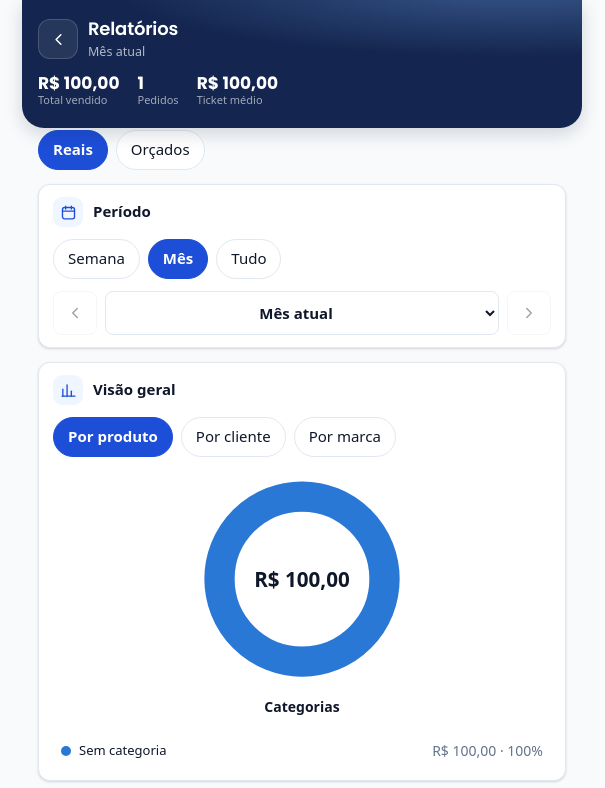
Test: relatórios › orçamento fica fora das vendas reais e tem o seu próprio recorte "Orçados"
Expected: the 1st text "R$ 100,00" is shown, [38, 73, 120, 93]
Recorte "Orçados": agora só os R$ 900 do orçamento.
Click the button "Orçados" at (160, 150), box [116, 130, 205, 170]
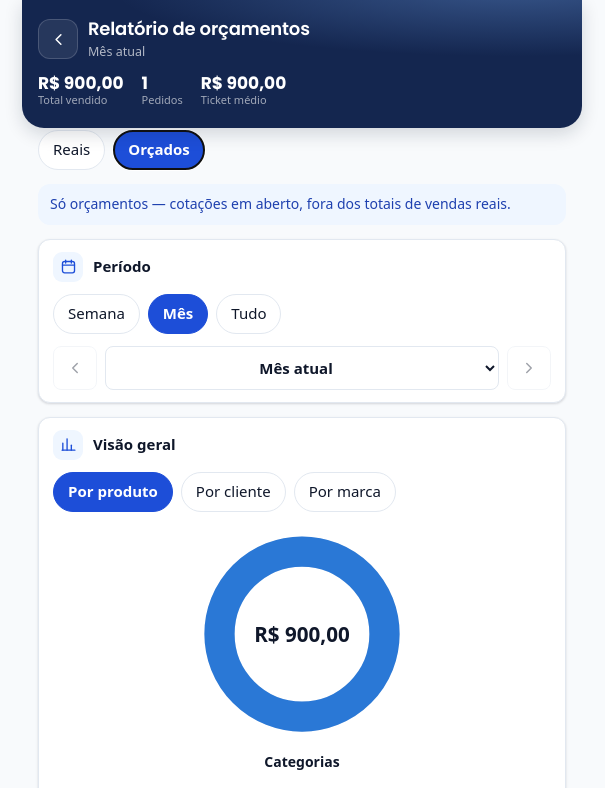
Result: the 1st text "R$ 900,00" is shown at [38, 73, 124, 93]
Result: the text "R$ 100,00" is gone
